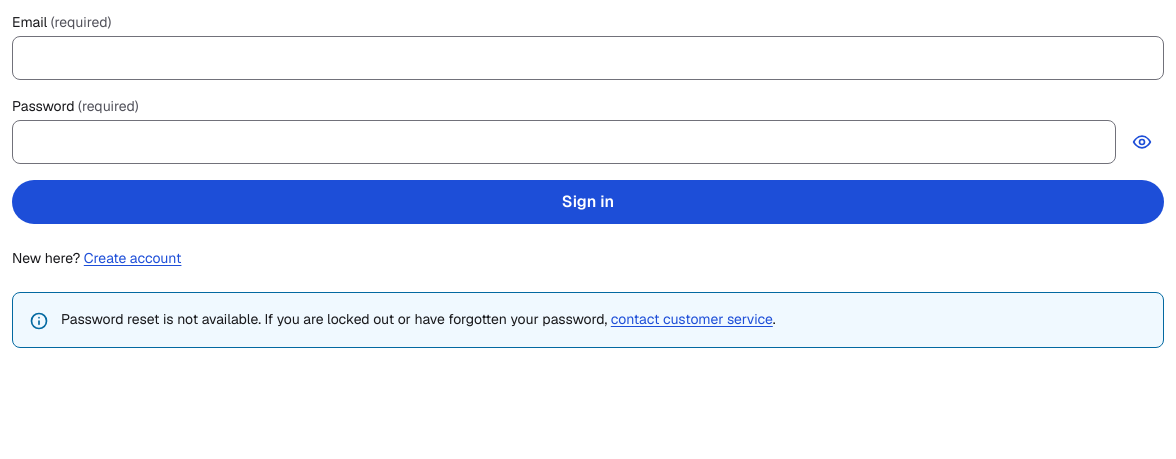
SignInForm interactions › INTERNAL_ERROR shows the generic text (not the server message)
Type "ada@example.com" into the field labelled "Email (required)" at (588, 58), box [12, 36, 1164, 80]
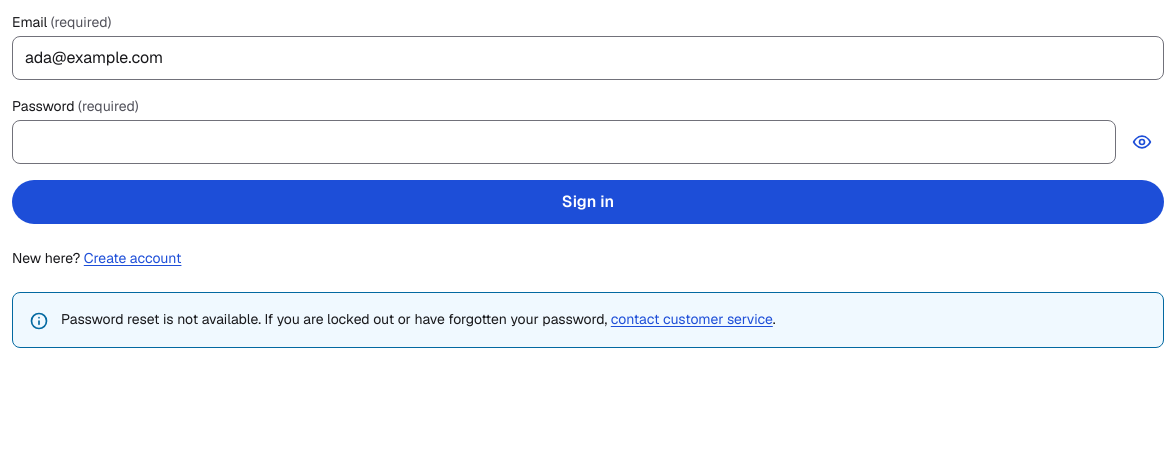
Type "correct horse battery" into the password field labelled "Password (required)" at (564, 142), box [12, 120, 1116, 164]
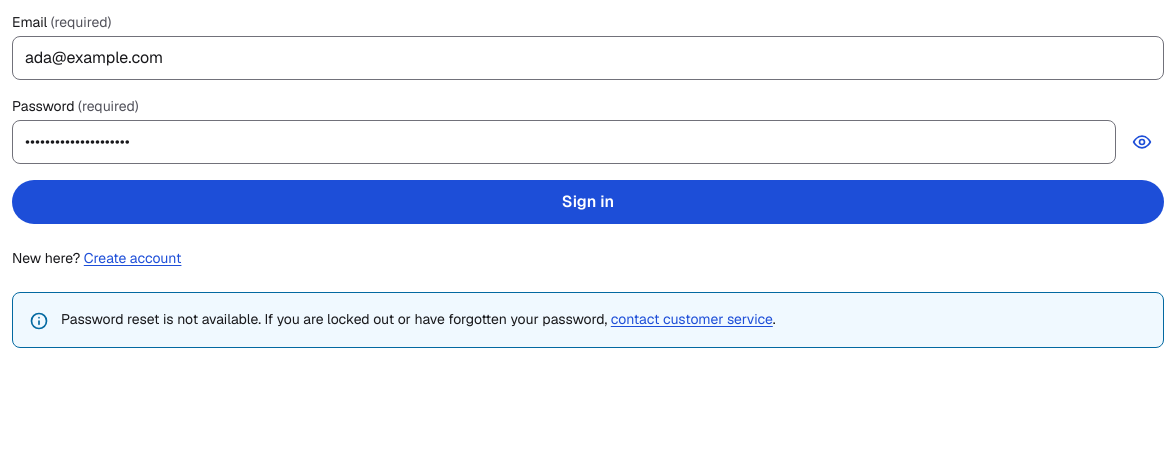
Submit the form with id "signin-form", box [12, 12, 1164, 224]
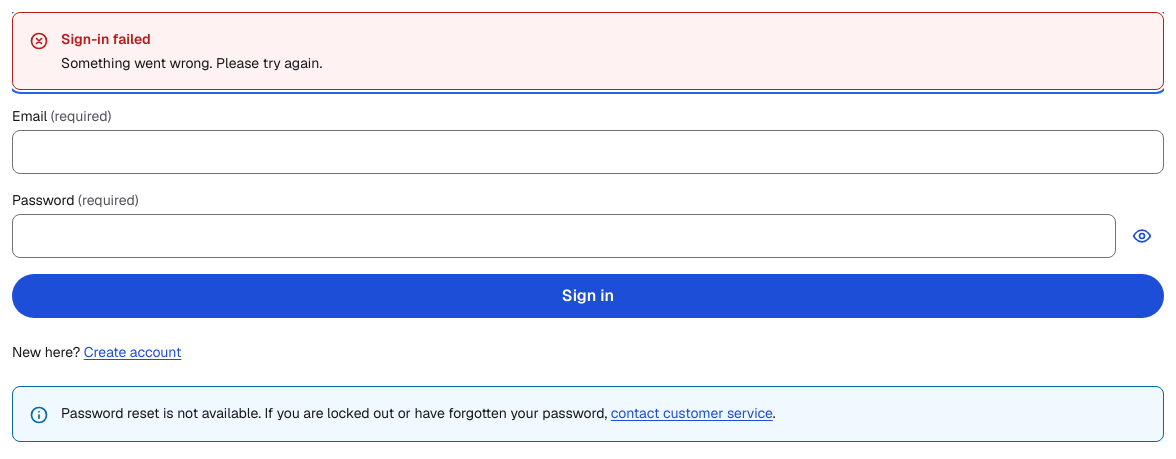
expect the message with test id "signin-error-summary" shows "Something went wrong. Please try again.": met, box [61, 54, 322, 72]
